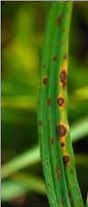Bercak Coklat: (55, 67, 67, 88), (53, 122, 67, 138), (54, 94, 66, 108), (60, 152, 73, 164), (58, 140, 67, 149)
